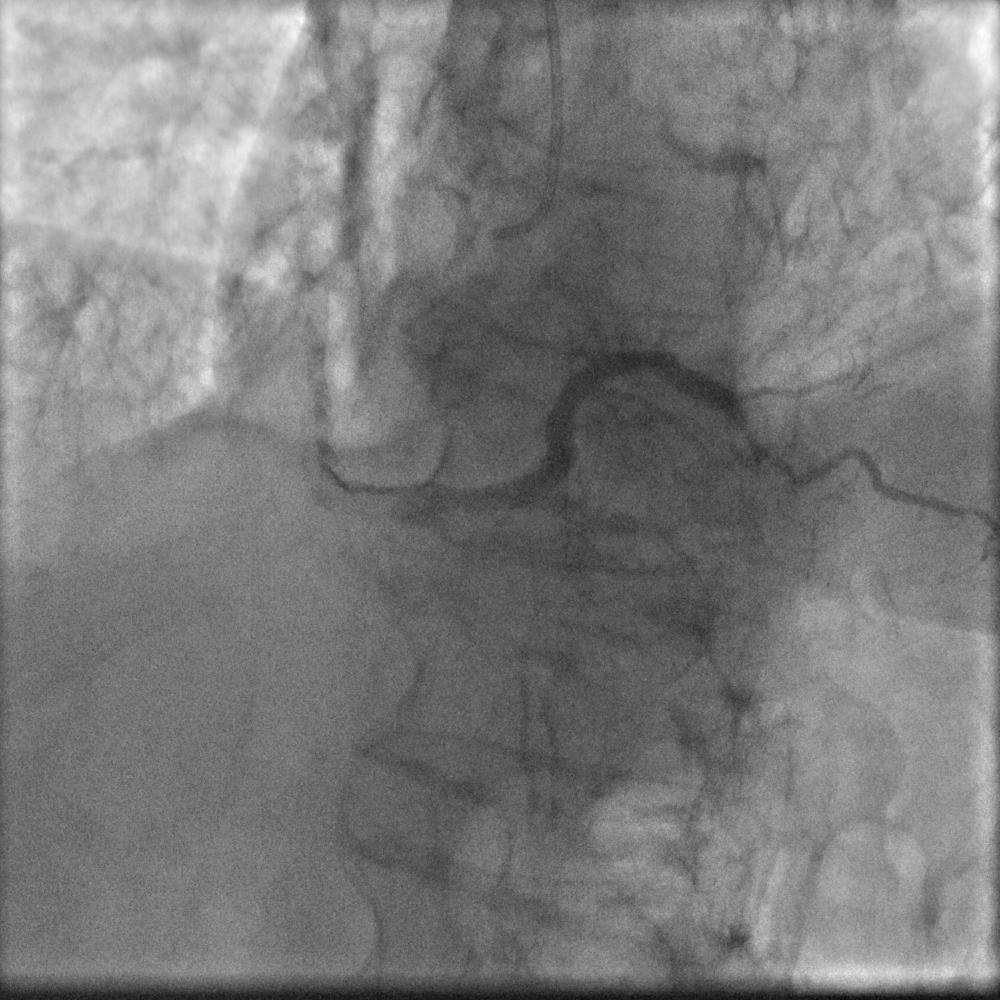Stenosis: (727, 383, 771, 467)
